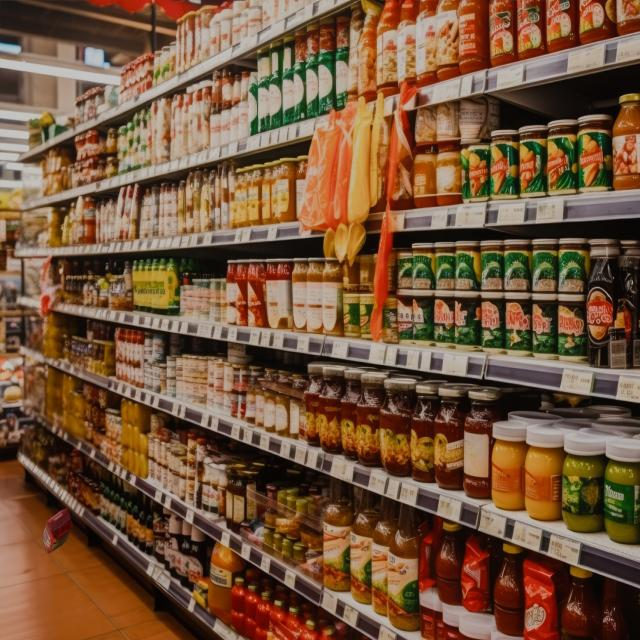mate bag: (43, 504, 73, 552)
